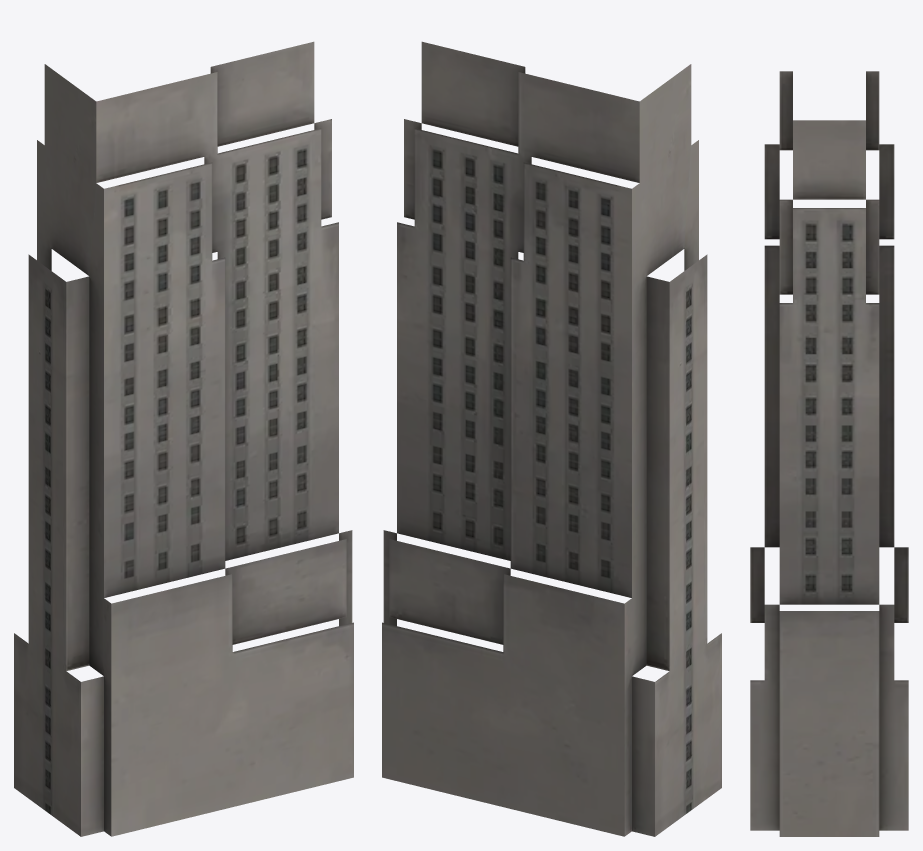
3 renders of one model, left to right at view 1: azimuth 30°, elevation 25°; view 2: azimuth 150°, elevation 25°; view 3: azimuth 270°, elevation 25°, orthographic. The views are drawn at different scales.
Parts seen in each view (by area): view 1: body0_model0_lod0_mesh0; view 2: body0_model0_lod0_mesh0; view 3: body0_model0_lod0_mesh0.
Boxes of the visible parts, x1,y1,x2,y2 form: body0_model0_lod0_mesh0: (14, 41, 353, 836); body0_model0_lod0_mesh0: (382, 41, 721, 836); body0_model0_lod0_mesh0: (750, 71, 908, 836).
Size of the model in its own units: 125 by 310 by 63.43.
Materials: 1 (1 with a texture image).
